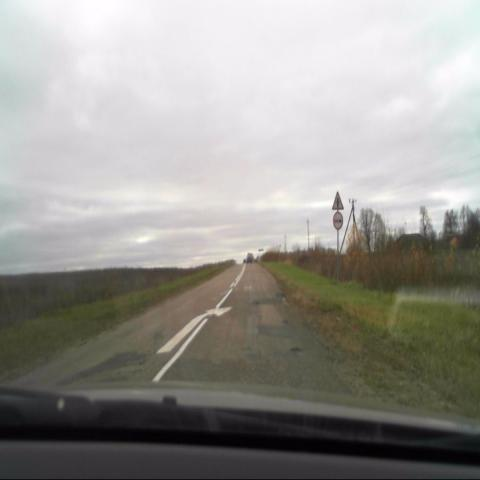2_3: (332, 190, 344, 209)
